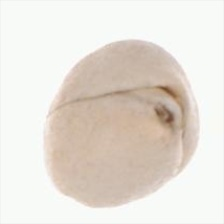L3: (133, 81, 191, 139)
L4: (44, 38, 199, 208)
